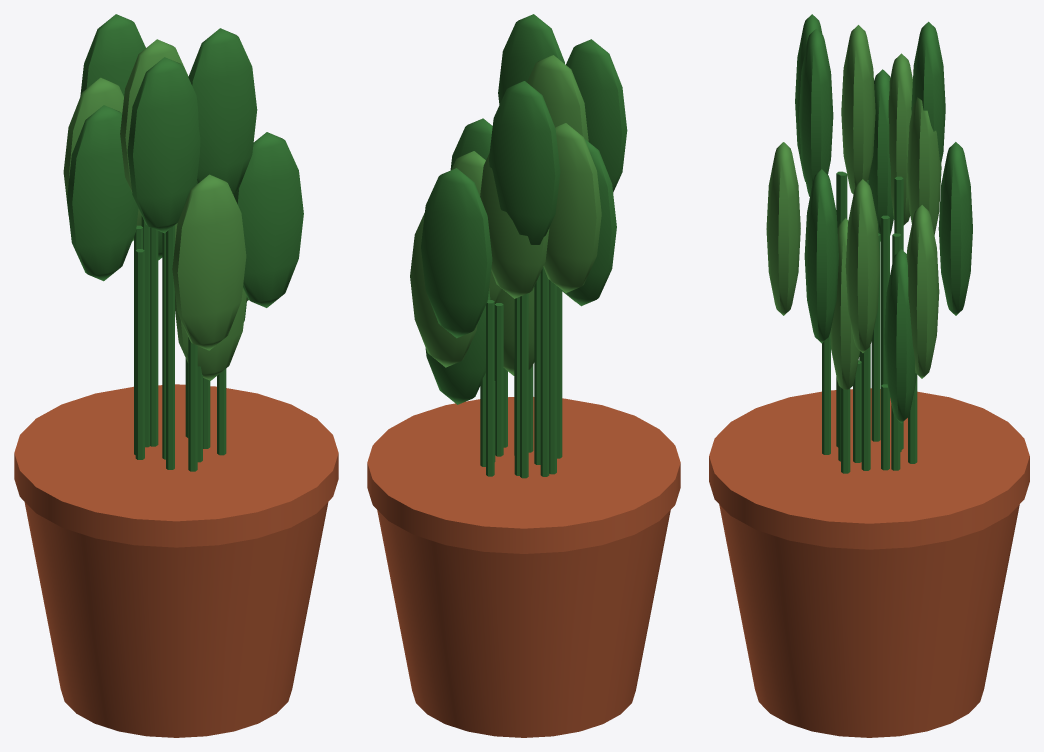
Rendered from Plant_Pot_Large.glb.
3 views of the same model, side by side, from view 1: azimuth 30°, elevation 25°; view 2: azimuth 150°, elevation 25°; view 3: azimuth 270°, elevation 25° (orthographic). The views are drawn at different scales.
Visible parts, largest first — view 1: Plant_Pot_Large; view 2: Plant_Pot_Large; view 3: Plant_Pot_Large.
Part boxes in pixels (<box>): Plant_Pot_Large: <box>14,14,338,737</box>; Plant_Pot_Large: <box>367,14,680,737</box>; Plant_Pot_Large: <box>709,14,1029,737</box>.
Bounding box in the file's own units: 0.56 × 1.29 × 0.56.
